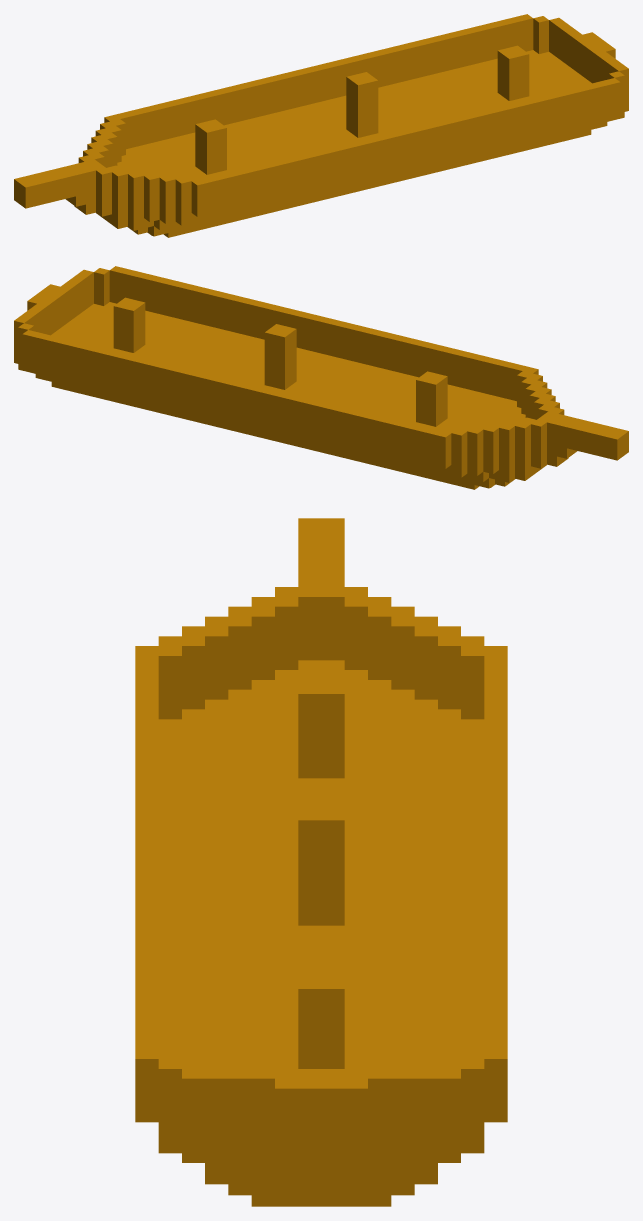
The model's file is Ship.obj.
3 views of the same model, one above another, from view 1: azimuth 30°, elevation 25°; view 2: azimuth 150°, elevation 25°; view 3: azimuth 270°, elevation 25° (orthographic). The views are drawn at different scales.
Size of the model in its own units: 5.8 by 0.9 by 1.6.
